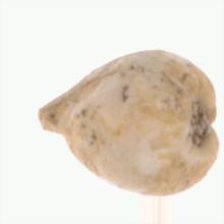L3: (35, 106, 70, 144)
L4: (36, 50, 220, 196)
